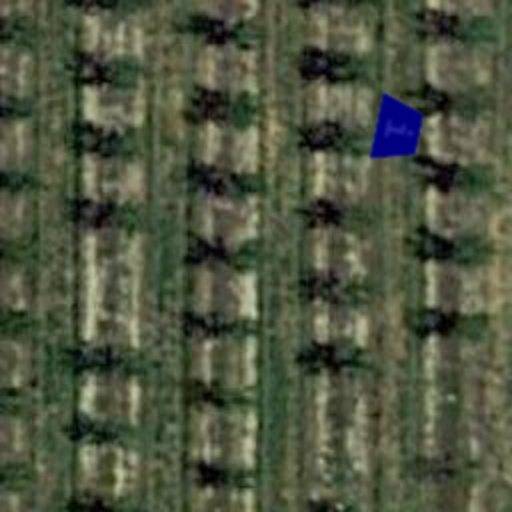trapezoid: (356, 88, 440, 172)
